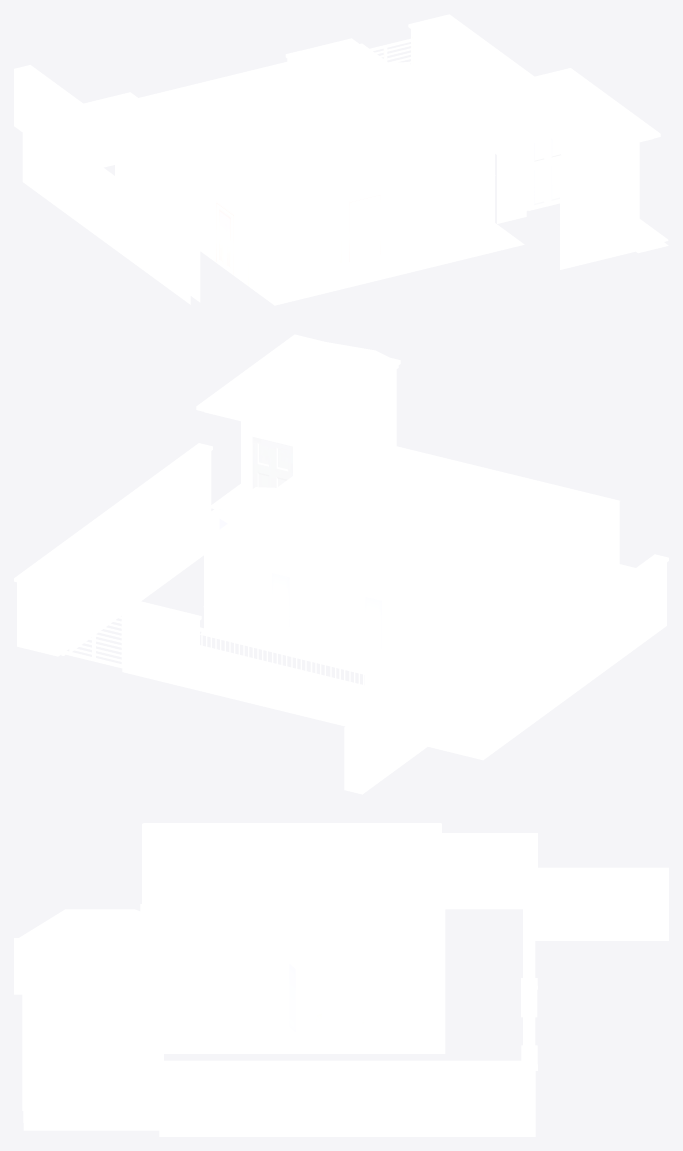
File: stage.glb
3 renders of one model, top to bottom at view 1: azimuth 30°, elevation 25°; view 2: azimuth 150°, elevation 25°; view 3: azimuth 270°, elevation 25°, orthographic. The views are drawn at different scales.
Visible parts, largest first — view 1: KORE_export_5_ceiling_1_0_0, KORE_export_5_light_1_0_0, KORE_export_5_obj02_1_0_0; view 2: KORE_export_5_light_1_0_0, KORE_export_5_ceiling_1_0_0, KORE_export_7_glass_1_0_0, KORE_export_5_obj02_1_0_0; view 3: KORE_export_5_light_1_0_0, KORE_export_5_ceiling_1_0_0, KORE_export_7_glass_1_0_0, KORE_export_5_kitchen_1_0_0, KORE_export_5_obj02_1_0_0.
Boxes of the visible parts, box(x1,y1,x2,y2) form: KORE_export_5_ceiling_1_0_0: box(115, 43, 524, 305); KORE_export_5_light_1_0_0: box(14, 14, 668, 304); KORE_export_5_obj02_1_0_0: box(143, 89, 356, 251); KORE_export_5_light_1_0_0: box(14, 334, 668, 794); KORE_export_5_ceiling_1_0_0: box(200, 434, 635, 683); KORE_export_7_glass_1_0_0: box(219, 519, 381, 648); KORE_export_5_obj02_1_0_0: box(203, 519, 562, 671); KORE_export_5_light_1_0_0: box(14, 833, 668, 1136); KORE_export_5_ceiling_1_0_0: box(140, 823, 445, 1053); KORE_export_7_glass_1_0_0: box(289, 964, 384, 1034); KORE_export_5_kitchen_1_0_0: box(165, 923, 365, 1052); KORE_export_5_obj02_1_0_0: box(291, 852, 442, 1051).
Size of the model in its own units: 15.27 by 4.99 by 18.
6 materials, 6 textured.
